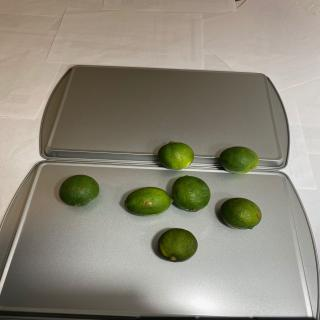Lemon: (171, 175, 211, 212), (124, 187, 174, 216), (157, 228, 198, 262), (220, 197, 262, 230), (59, 174, 100, 207), (219, 146, 259, 174), (158, 141, 195, 170)
